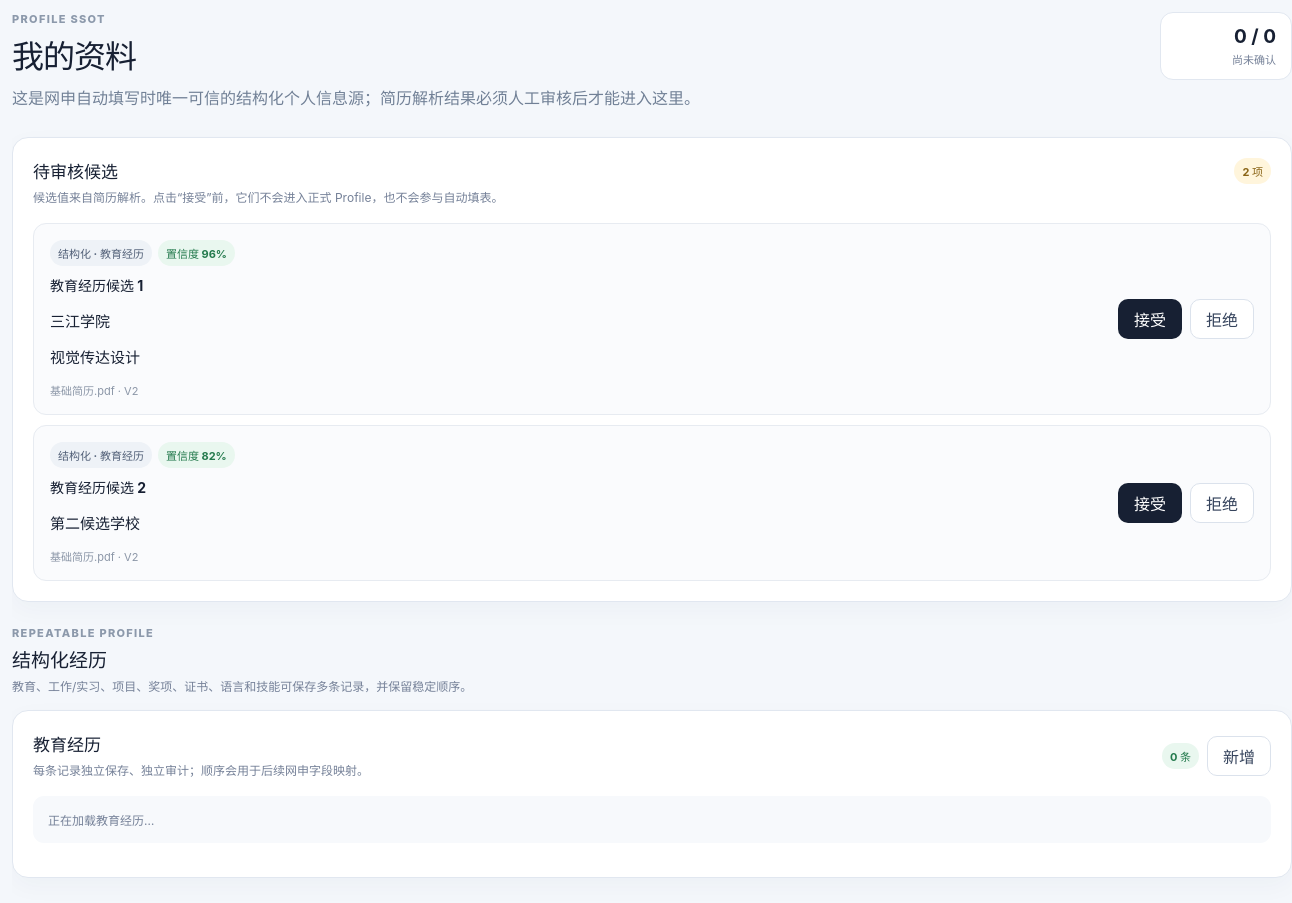
Test case: reviews structured collection drafts and only exposes accepted records to the SSOT editor
expect the text "三江学院" is shown: met, box [50, 312, 110, 331]
expect the text "视觉传达设计" is shown: met, box [50, 348, 140, 367]
Click the button with aria-label "接受 教育经历候选 1" at point(1150, 319), box [1118, 299, 1182, 339]
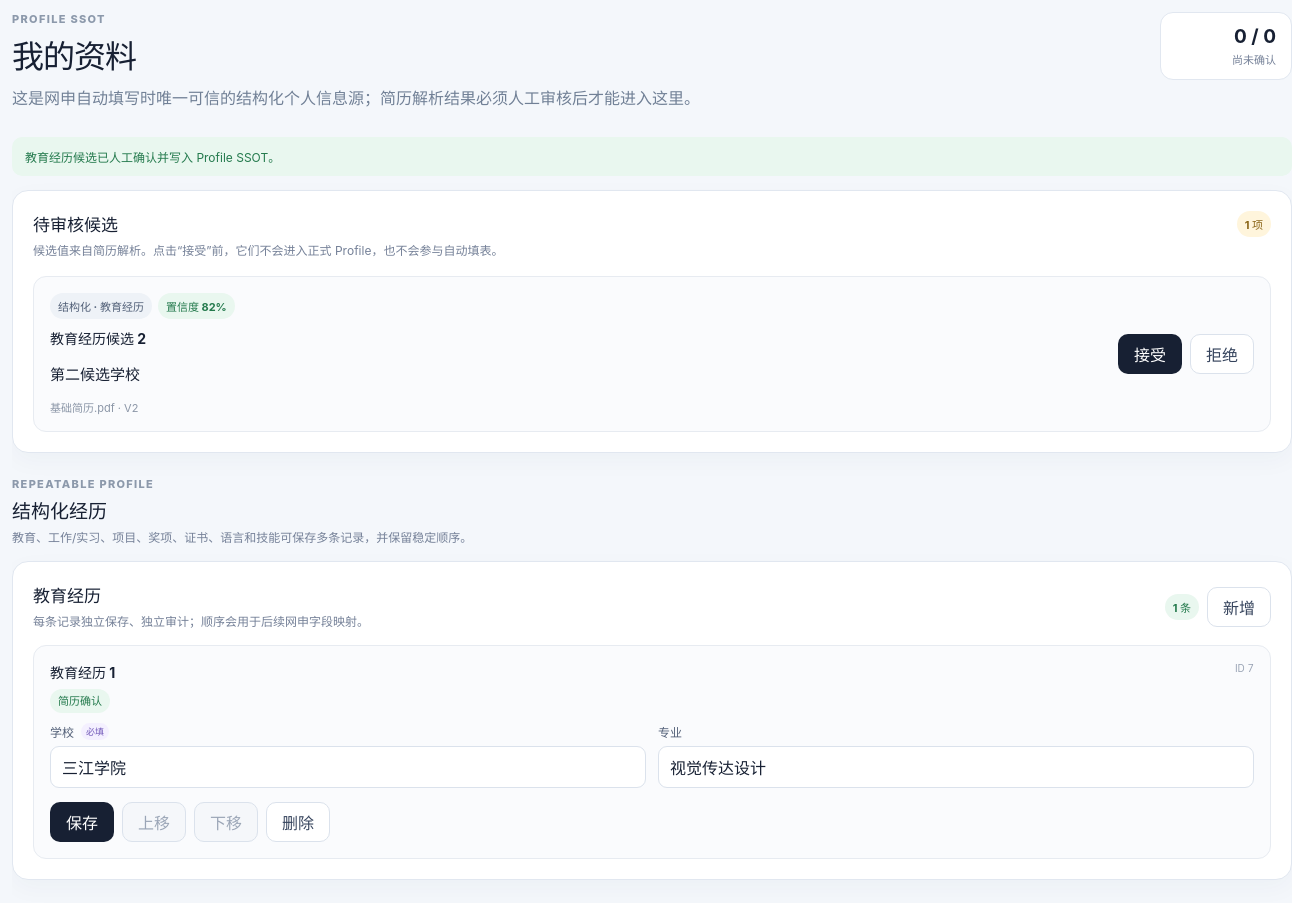
expect the field showing "三江学院" is shown: met, box [50, 746, 646, 788]
Click the button with aria-label "拒绝 教育经历候选 2" at point(1222, 354), box [1190, 334, 1254, 374]
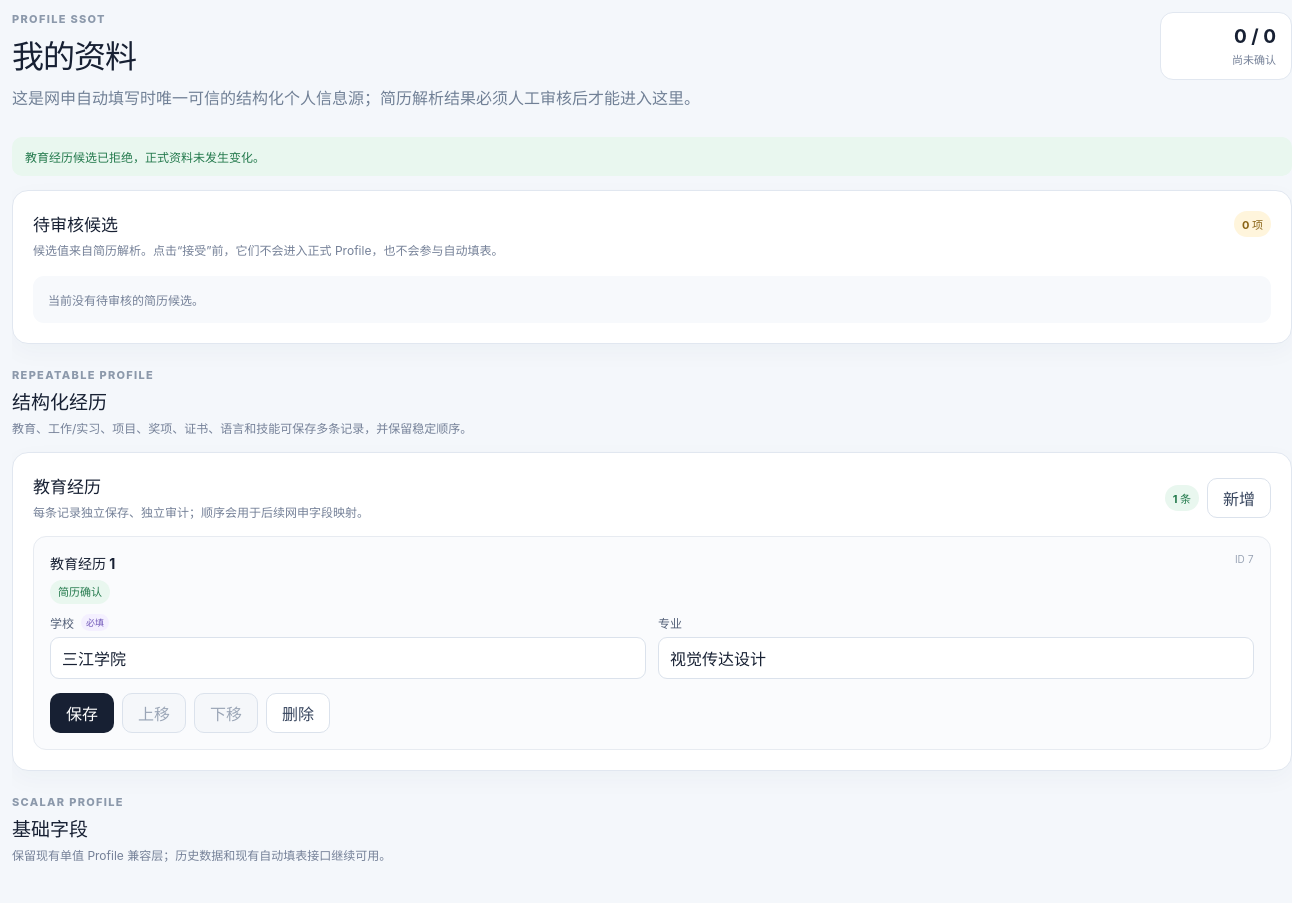
expect the text "第二候选学校" is gone: met
